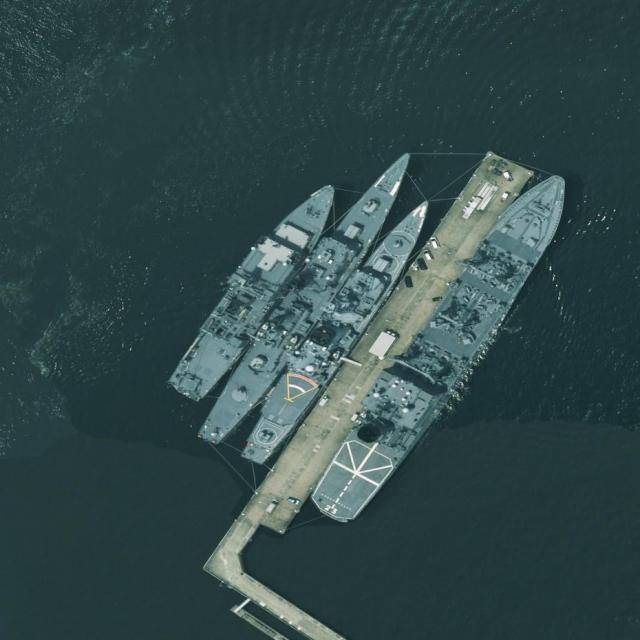Auxiliary Ships: (304, 160, 582, 530)
Destroyer: (189, 139, 425, 458), (231, 188, 445, 473)
Dock: (237, 147, 533, 539)
Other Warship: (159, 166, 346, 412)
